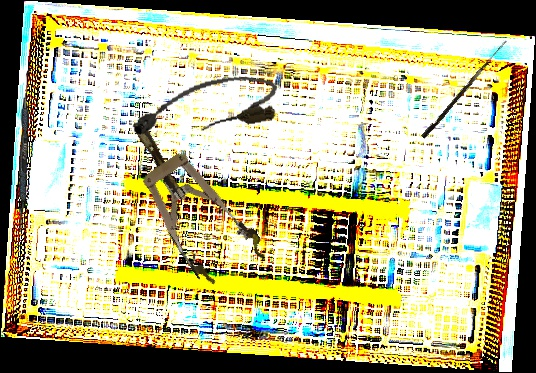Cannula: (126, 68, 283, 145)
Hook Surgical: (421, 36, 507, 141)
Spatula Surgical: (18, 68, 30, 233)
Speculum: (107, 103, 271, 295)
